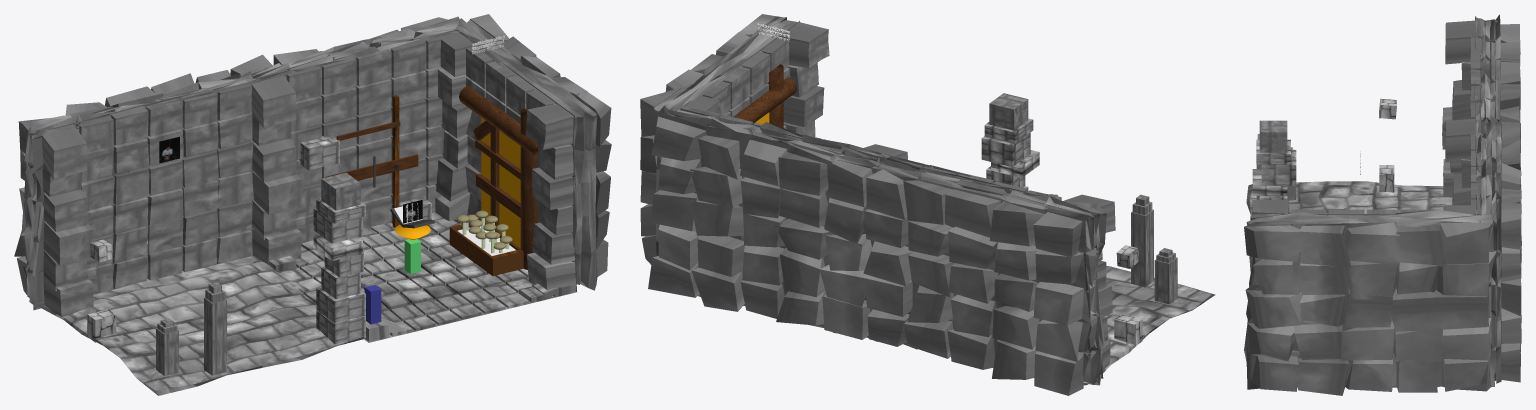
Rendered from Portfo.glb.
The picture shows the model from 3 angles, left to right: view 1: azimuth 30°, elevation 25°; view 2: azimuth 150°, elevation 25°; view 3: azimuth 270°, elevation 25°; orthographic projection. The views are drawn at different scales.
Visible parts, largest first — view 1: กำแพง1.001, กำแพง1, Plane.001, กำแพง2, พื้น, Cube, Cube.002, Cube.001, แสงส้ม, Cube.004, เสา, Plane.003 (+18 smaller); view 2: Cube.002, Cube.001, กำแพง2, Cube, Plane.001, กำแพง1.001, Cube.004, Cube.003, Cube.012, Cube.010, คานไม้, เสาหิน.001 (+4 smaller); view 3: Cube, Cube.001, Plane.001, Cube.002, กำแพง1.001, กำแพง1, กำแพง2, Cube.012, Cube.010, Cube.011, Cube.009, เสาหิน.001 (+1 smaller).
Part boxes in pixels (<box>): กำแพง1.001: <box>42,83,253,316</box>; กำแพง1: <box>251,29,460,264</box>; Plane.001: <box>39,255,363,395</box>; กำแพง2: <box>435,30,576,295</box>; พื้น: <box>269,212,576,342</box>; Cube: <box>455,14,611,290</box>; Cube.002: <box>14,70,259,310</box>; Cube.001: <box>230,16,474,228</box>; แสงส้ม: <box>481,117,520,248</box>; Cube.004: <box>204,282,226,375</box>; เสา: <box>520,108,538,269</box>; Plane.003: <box>449,219,523,276</box>; Cube.002: <box>863,153,1106,395</box>; Cube.001: <box>648,104,886,341</box>; กำแพง2: <box>680,21,829,136</box>; Cube: <box>640,14,797,264</box>; Plane.001: <box>1102,265,1215,372</box>; กำแพง1.001: <box>886,157,1115,369</box>; Cube.004: <box>1131,194,1153,287</box>; Cube.003: <box>1154,248,1177,303</box>; Cube.012: <box>989,93,1028,130</box>; Cube.010: <box>981,132,1030,167</box>; คานไม้: <box>733,77,796,123</box>; เสาหิน.001: <box>1114,314,1142,346</box>; Cube: <box>1244,210,1496,395</box>; Cube.001: <box>1475,116,1521,383</box>; Plane.001: <box>1246,181,1452,220</box>; Cube.002: <box>1474,14,1520,123</box>; กำแพง1.001: <box>1442,20,1481,197</box>; กำแพง1: <box>1443,118,1480,214</box>; กำแพง2: <box>1252,199,1480,215</box>; Cube.012: <box>1259,120,1287,152</box>; Cube.010: <box>1261,150,1296,185</box>; Cube.011: <box>1256,139,1290,164</box>; Cube.009: <box>1252,169,1287,195</box>; เสาหิน.001: <box>1379,165,1394,192</box>.
Bounding box in the file's own units: 22.29 × 10.49 × 12.07.
20 materials, 9 textured.
